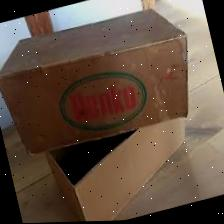cardboard: (0, 0, 206, 165), (38, 99, 210, 223)
